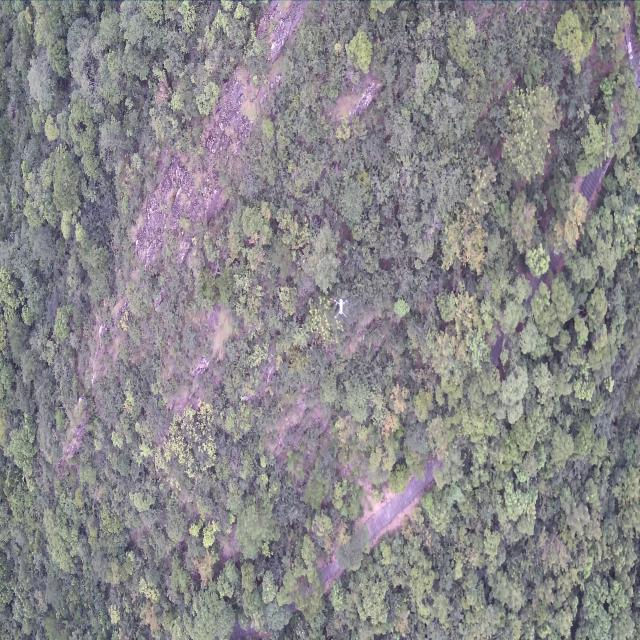UAV: (334, 296, 348, 320)
